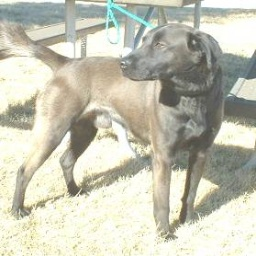dog: (2, 16, 223, 247)
